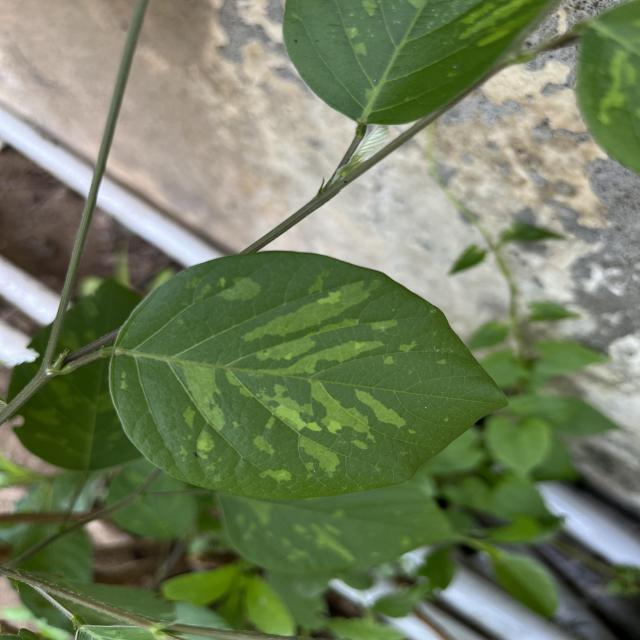Desmodium gangeticum: (102, 244, 514, 506)
